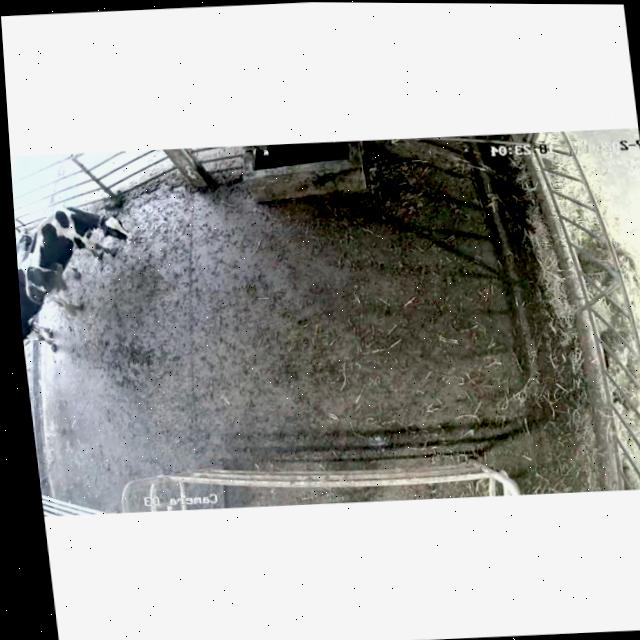stand: (15, 198, 149, 320)
